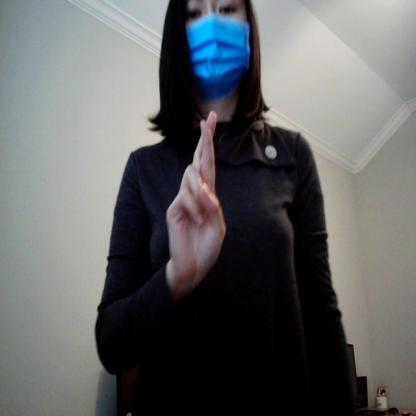right: (163, 107, 229, 285)
